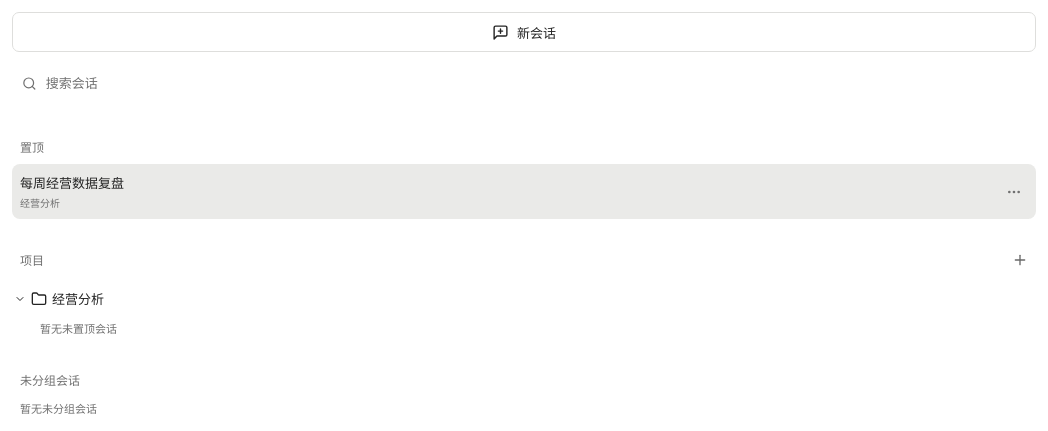
conversation sidebar › navigates menu actions with the keyboard and returns from destinations without moving
Click the button named "每周经营数据复盘的更多操作" at (1014, 192), box [992, 170, 1036, 214]
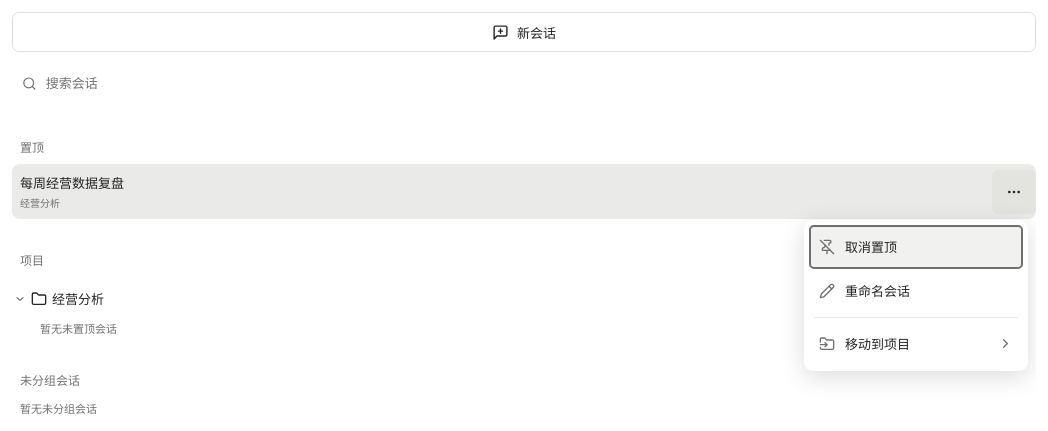
Press ArrowDown in the menu item "取消置顶", box [809, 224, 1023, 268]
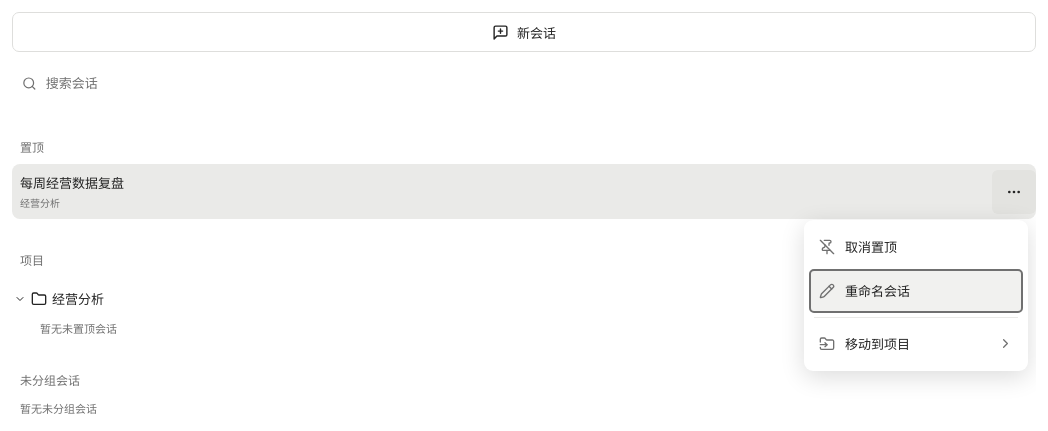
Press End in the menu item "重命名会话", box [809, 268, 1023, 312]
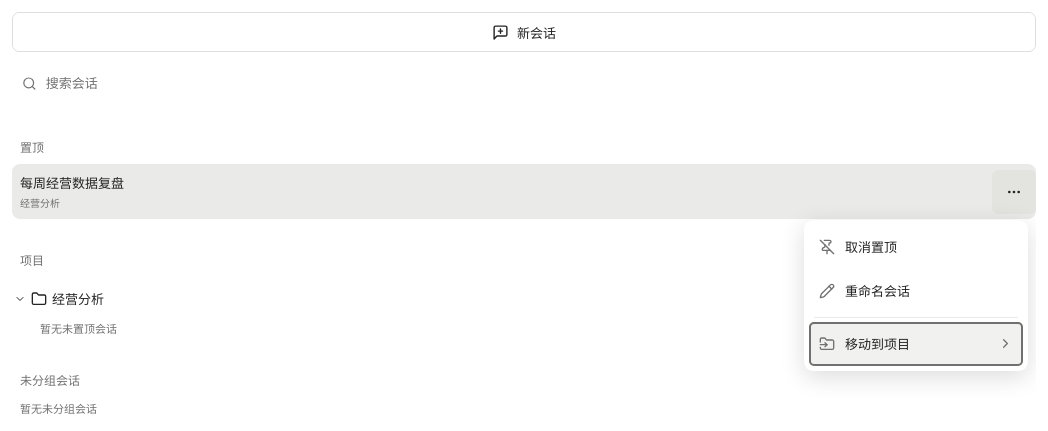
Click the menu item "移动到项目" at (916, 344), box [809, 322, 1023, 366]
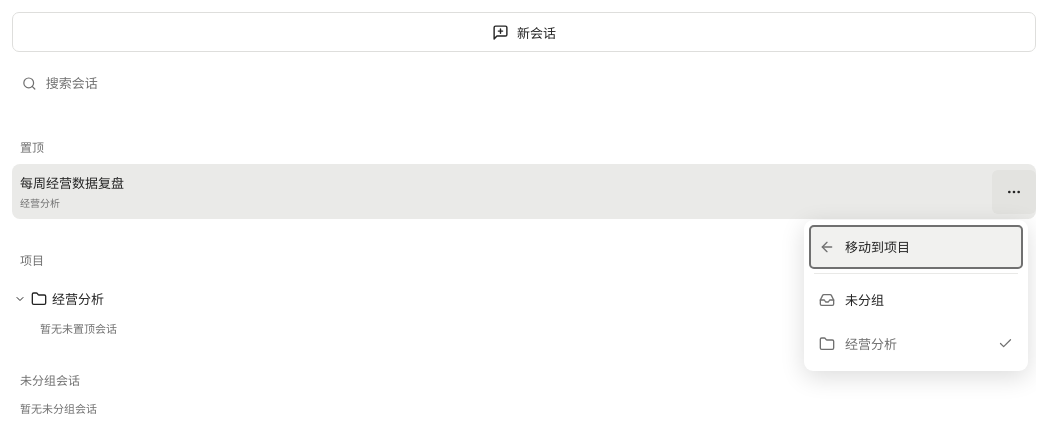
Press Escape in the menu, box [804, 220, 1028, 370]
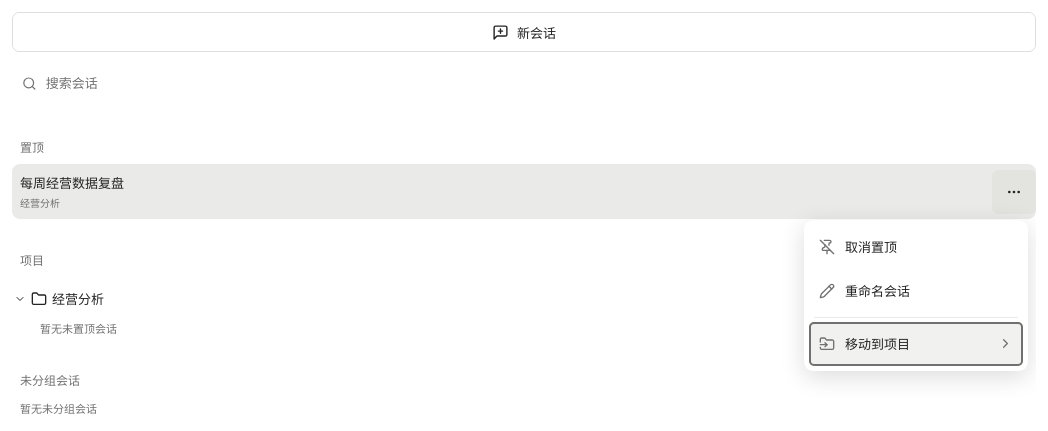
Click the menu item "重命名会话" at (916, 290), box [809, 268, 1023, 312]
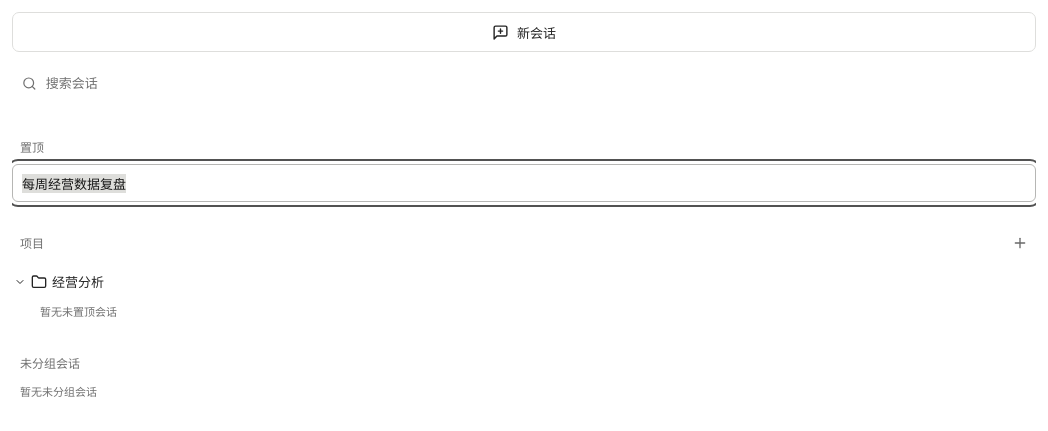
Now the menu is gone
